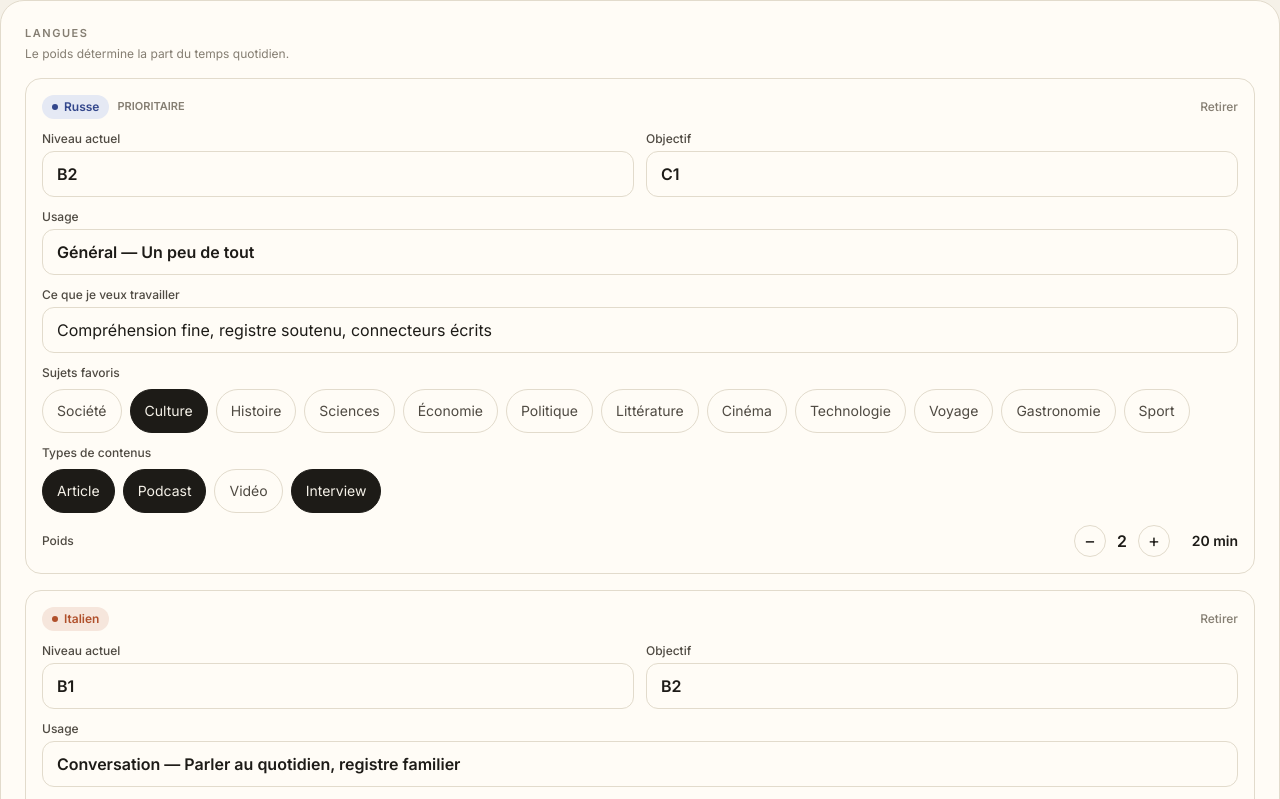
Test: PreferencesForm › reports validation errors instead of saving
Click the button "culture".
click(169, 410)  # box top-left (130, 388), bottom-right (208, 432)
(page scrolled)
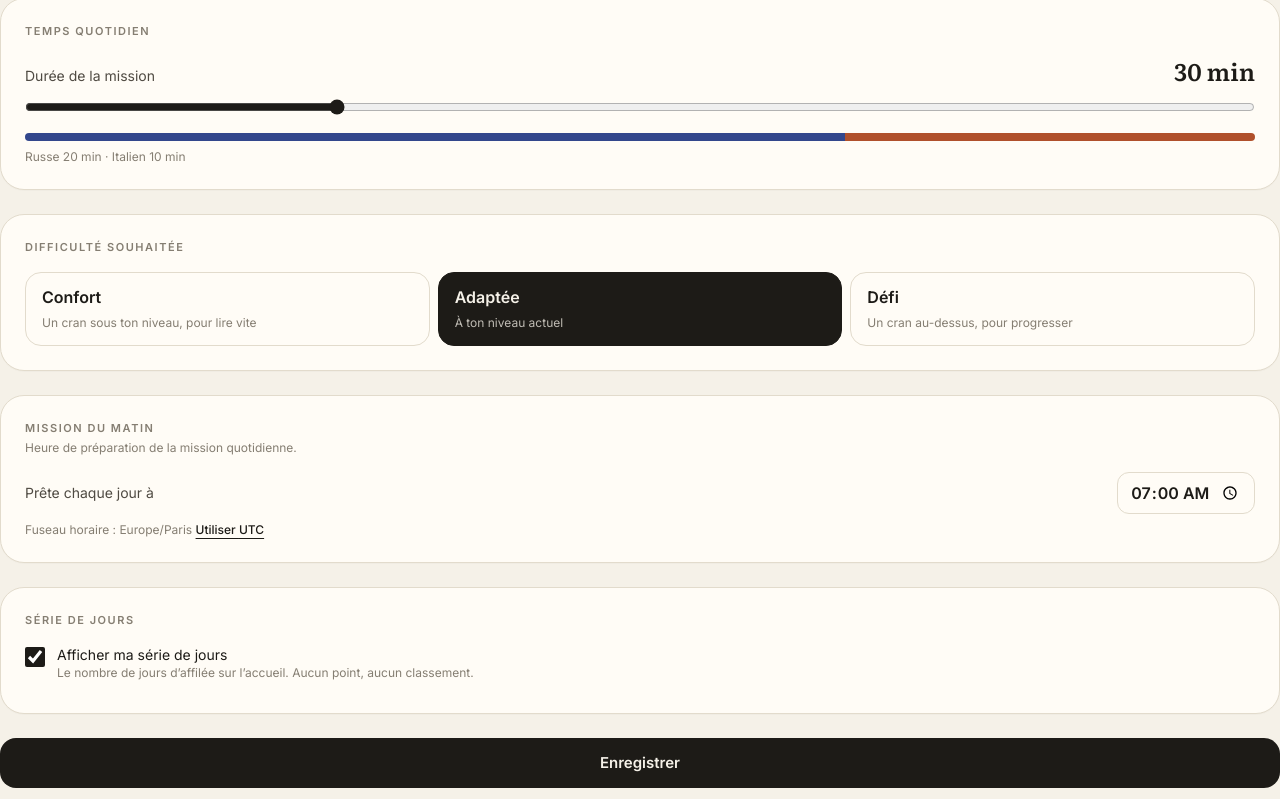
Click the button "Enregistrer".
click(640, 763)  # box top-left (0, 738), bottom-right (1279, 788)
(page scrolled)
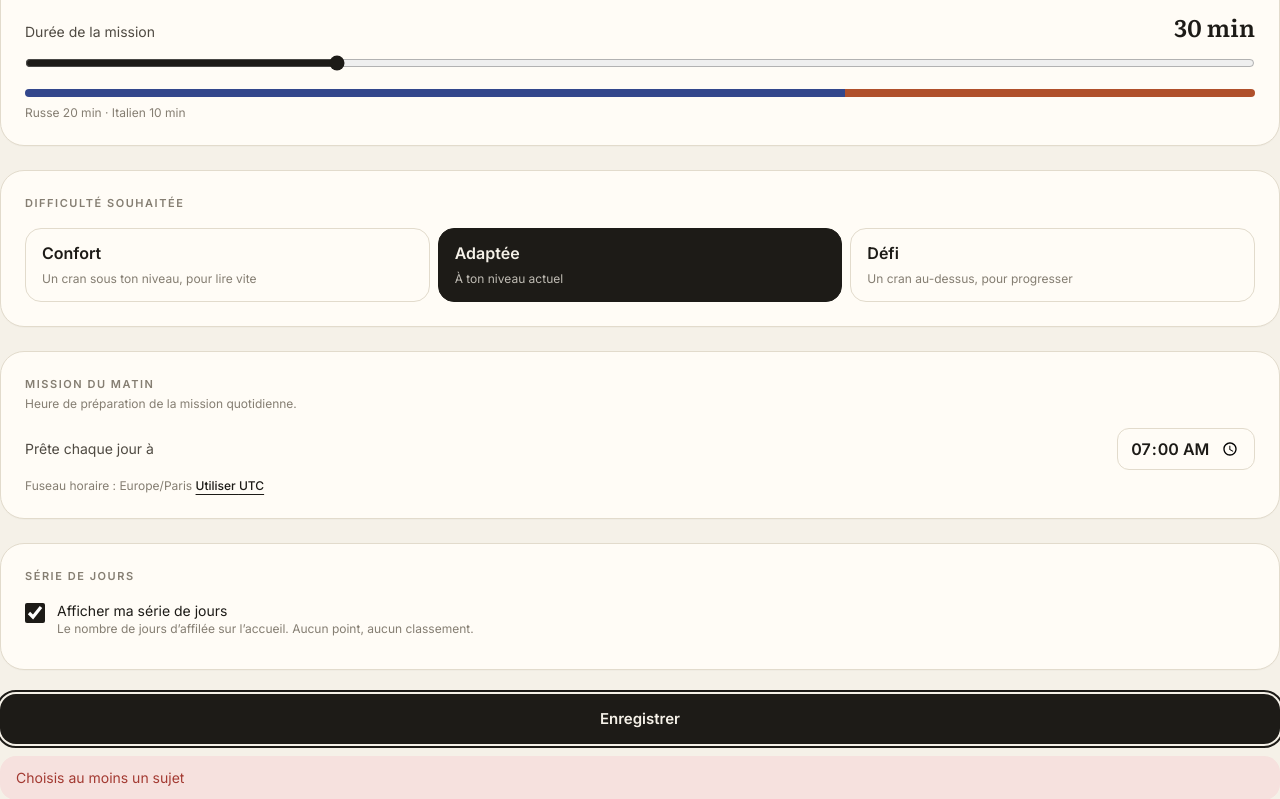
Expected: the list item "Choisis au moins un sujet" is shown, top-left (16, 769), bottom-right (184, 786)
